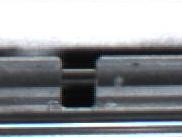oneu: (52, 49, 109, 112)
